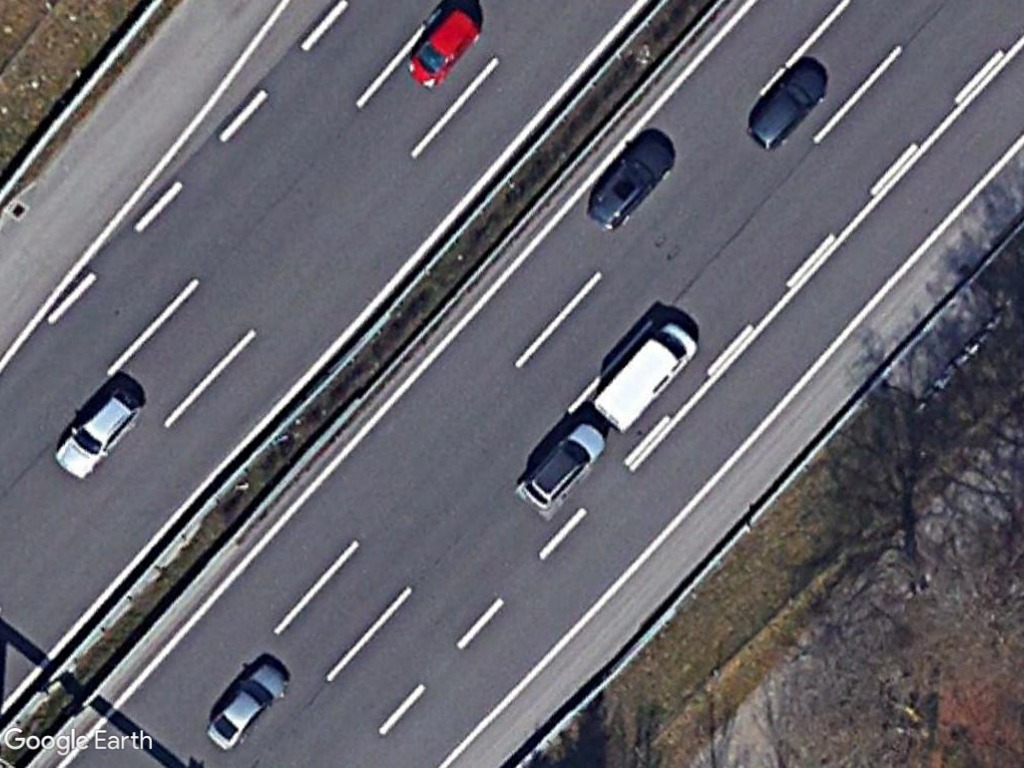car: (54, 383, 143, 482), (585, 134, 674, 227), (205, 663, 293, 752), (746, 66, 830, 150), (523, 421, 604, 505), (407, 10, 484, 87)
van: (593, 322, 700, 428)
